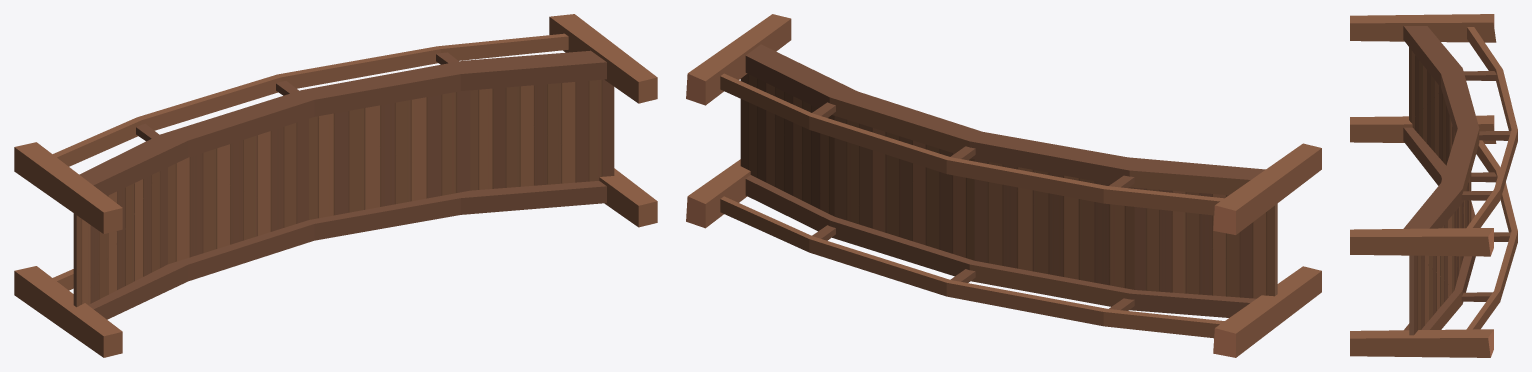
Rendered from Bridge.glb.
The picture shows the model from 3 angles, left to right: view 1: azimuth 30°, elevation 25°; view 2: azimuth 150°, elevation 25°; view 3: azimuth 270°, elevation 25°; orthographic projection. The views are drawn at different scales.
Parts seen in each view (by area): view 1: Bridge-wooden-lighter; view 2: Bridge-wooden-lighter; view 3: Bridge-wooden-lighter.
Boxes of the visible parts, x1=… form: Bridge-wooden-lighter: x1=14, y1=14, x2=657, y2=357; Bridge-wooden-lighter: x1=686, y1=14, x2=1321, y2=357; Bridge-wooden-lighter: x1=1350, y1=14, x2=1517, y2=357.
Size of the model in its own units: 6.39 by 1.63 by 2.04.
1 material, 1 textured.
